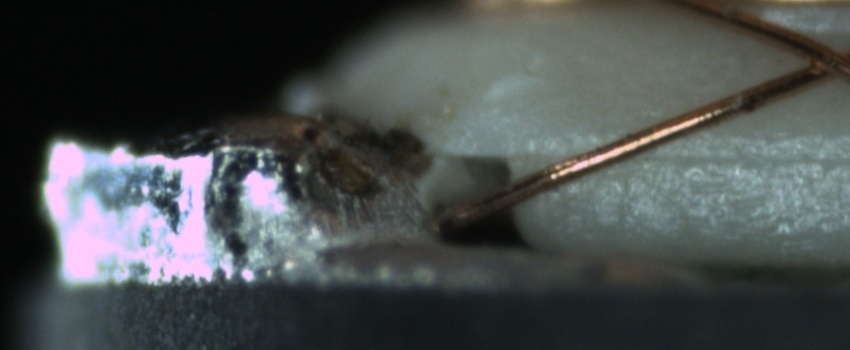CL: (782, 31, 847, 87)
DL: (558, 129, 850, 184)
